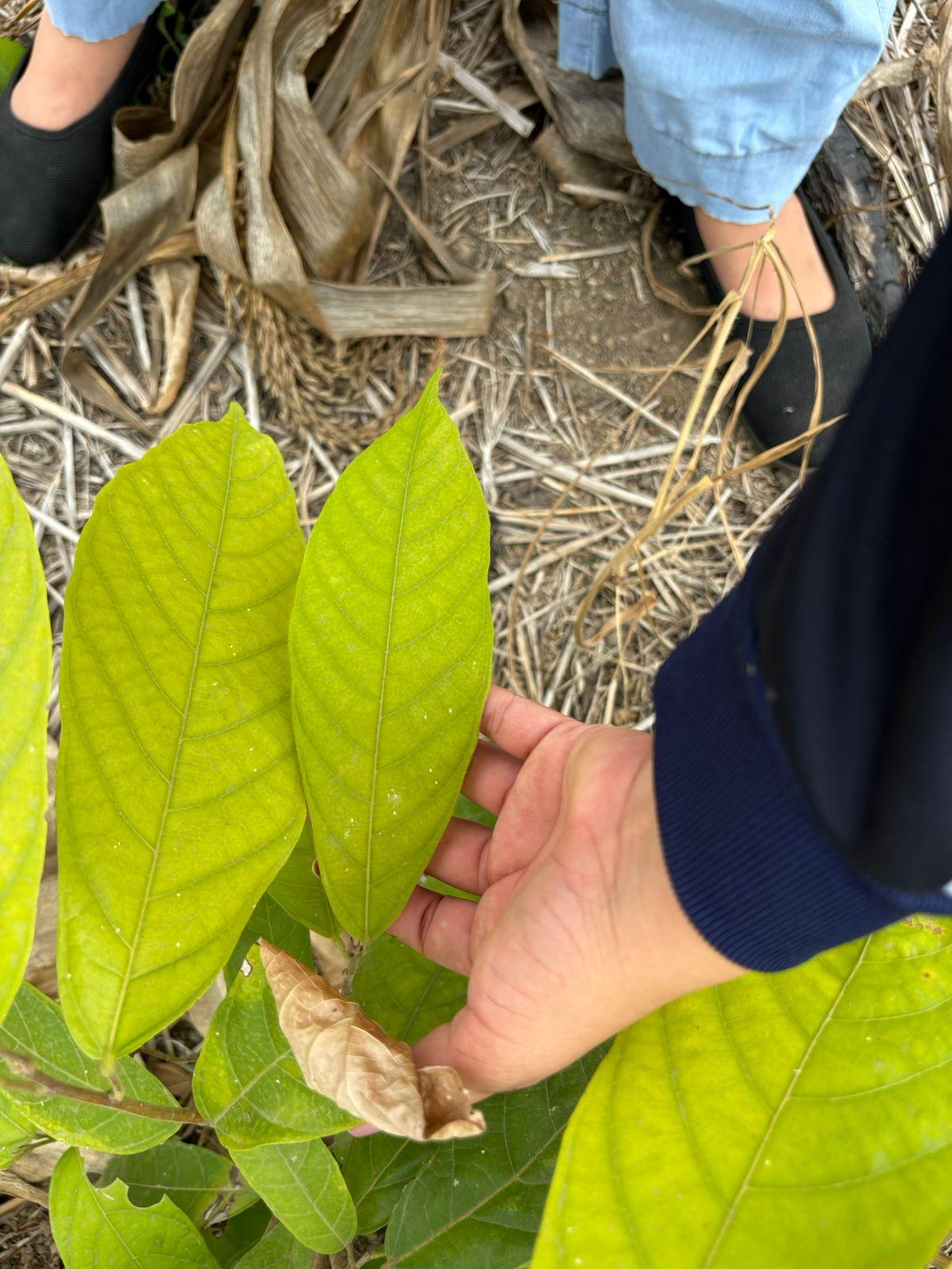deficiencia_nitrogeno: (56, 412, 304, 1066), (290, 374, 493, 939)
